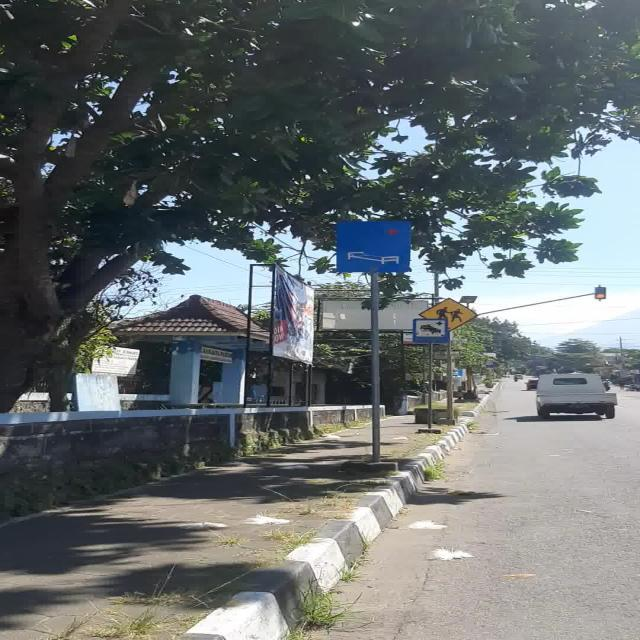Rumah Sakit: (336, 220, 411, 272)
